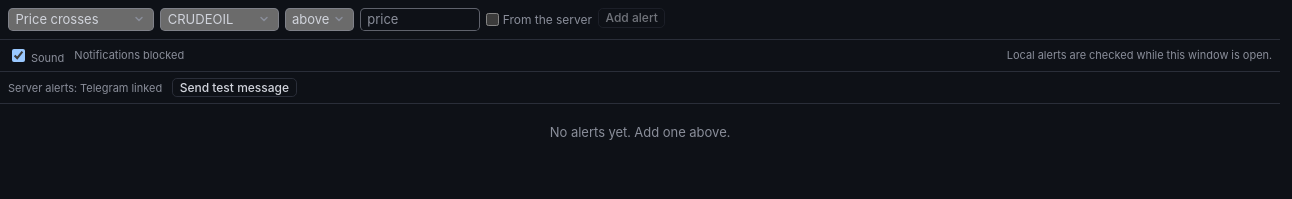
Test: shows which delivery channels are set up and sends a test message only when asked
Expected: the text "Server alerts: Telegram linked" is shown, [8, 80, 162, 94]
Click the button "Send test message" at (234, 88), box [172, 78, 297, 97]
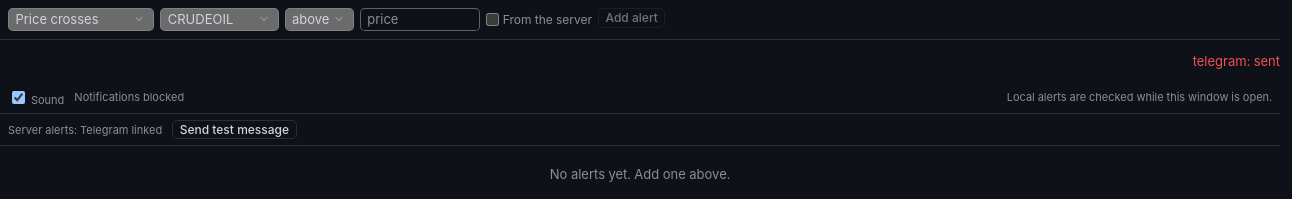
Expected: the text "telegram: sent" is shown, [1193, 53, 1280, 69]
